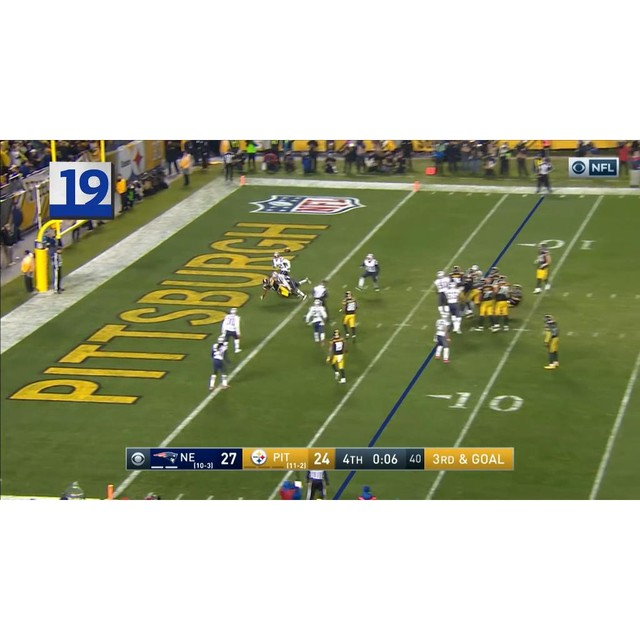american-football-player: (208, 334, 232, 390), (326, 329, 348, 384), (541, 313, 562, 369), (477, 281, 499, 332), (443, 282, 464, 333), (220, 307, 243, 353), (433, 311, 453, 363), (532, 242, 552, 294), (305, 298, 328, 343), (358, 252, 381, 291), (340, 292, 358, 340)
